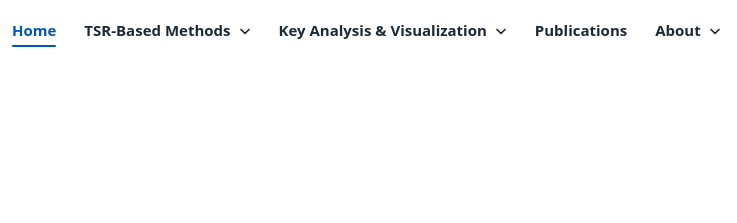
it: desktop navigation › opens on click and exposes the panel it controls
Click the button "TSR-Based Methods".
click(168, 30)  # box [72,12,263,49]
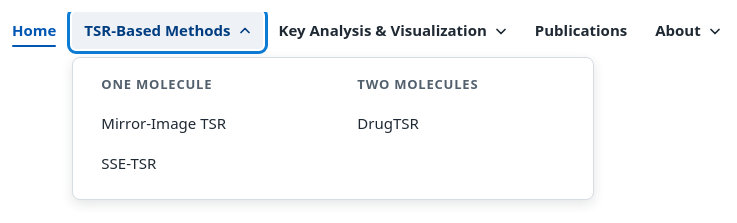
Result: the button "TSR-Based Methods" is expanded at [72,12,263,49]
Result: the link "Mirror-Image TSR" is shown at [101,113,226,133]
